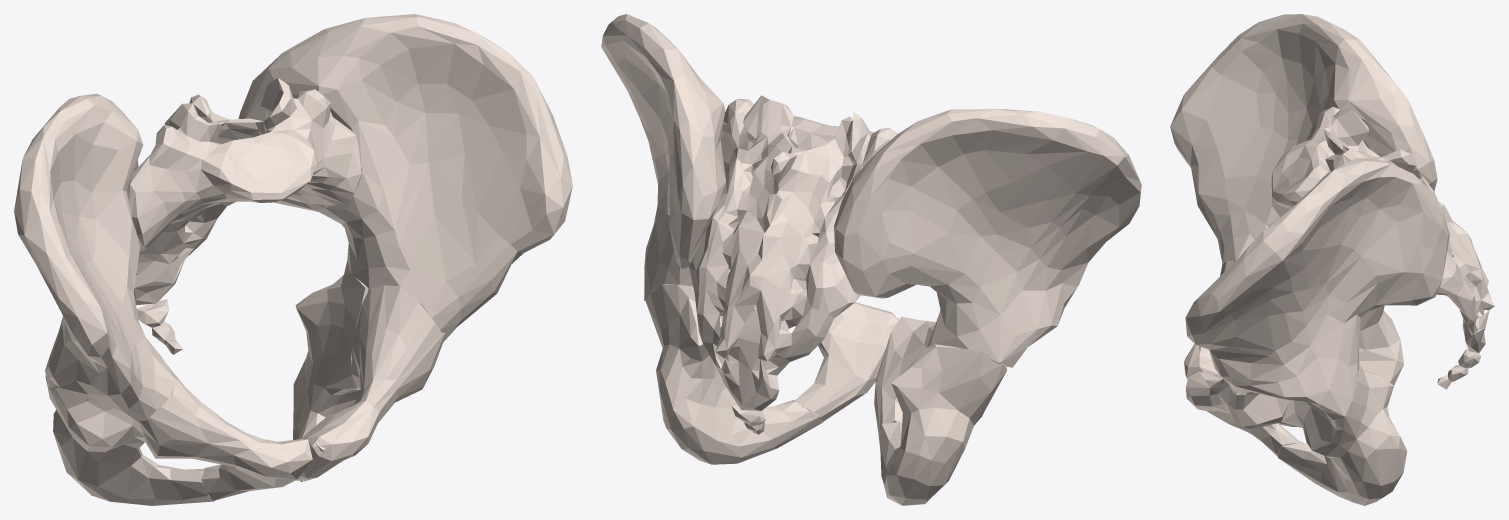
File: VH_M_Pelvis_0.1.glb
The picture shows the model from 3 angles, left to right: view 1: azimuth 30°, elevation 25°; view 2: azimuth 150°, elevation 25°; view 3: azimuth 270°, elevation 25°; orthographic projection. The views are drawn at different scales.
Parts seen in each view (by area): view 1: VH_M_ilium_compact_bone_L, VH_M_ilium_compact_bone_R, VH_M_sacrum, VH_M_pubis_compact_bone_L, VH_M_ischium_compact_bone_R, VH_M_pubis_compact_bone_R, VH_M_ischium_compact_bone_L, VH_M_coccyx; view 2: VH_M_ilium_compact_bone_R, VH_M_sacrum, VH_M_ilium_compact_bone_L, VH_M_ischium_compact_bone_L, VH_M_ischium_compact_bone_R, VH_M_pubis_compact_bone_L, VH_M_pubis_compact_bone_R; view 3: VH_M_ilium_compact_bone_L, VH_M_ilium_compact_bone_R, VH_M_ischium_compact_bone_L, VH_M_sacrum, VH_M_pubis_compact_bone_L, VH_M_ischium_compact_bone_R, VH_M_pubis_compact_bone_R, VH_M_coccyx.
Boxes of the visible parts, x1=… form: VH_M_ilium_compact_bone_L: x1=238, y1=14, x2=572, y2=341; VH_M_ilium_compact_bone_R: x1=14, y1=93, x2=177, y2=422; VH_M_sacrum: x1=127, y1=78, x2=361, y2=305; VH_M_pubis_compact_bone_L: x1=296, y1=285, x2=444, y2=481; VH_M_ischium_compact_bone_R: x1=45, y1=374, x2=214, y2=505; VH_M_pubis_compact_bone_R: x1=139, y1=365, x2=312, y2=500; VH_M_ischium_compact_bone_L: x1=293, y1=274, x2=369, y2=439; VH_M_coccyx: x1=137, y1=299, x2=182, y2=354; VH_M_ilium_compact_bone_R: x1=834, y1=109, x2=1141, y2=367; VH_M_sacrum: x1=689, y1=95, x2=898, y2=410; VH_M_ilium_compact_bone_L: x1=601, y1=14, x2=725, y2=300; VH_M_ischium_compact_bone_L: x1=645, y1=269, x2=823, y2=464; VH_M_ischium_compact_bone_R: x1=879, y1=344, x2=1006, y2=505; VH_M_pubis_compact_bone_L: x1=795, y1=302, x2=898, y2=421; VH_M_pubis_compact_bone_R: x1=874, y1=316, x2=935, y2=437; VH_M_ilium_compact_bone_L: x1=1185, y1=158, x2=1449, y2=420; VH_M_ilium_compact_bone_R: x1=1170, y1=14, x2=1437, y2=263; VH_M_ischium_compact_bone_L: x1=1278, y1=366, x2=1407, y2=505; VH_M_sacrum: x1=1271, y1=107, x2=1494, y2=352; VH_M_pubis_compact_bone_L: x1=1186, y1=371, x2=1298, y2=456; VH_M_ischium_compact_bone_R: x1=1288, y1=305, x2=1403, y2=427; VH_M_pubis_compact_bone_R: x1=1184, y1=261, x2=1290, y2=425; VH_M_coccyx: x1=1437, y1=349, x2=1480, y2=389.
Bounding box in the file's own units: 0.2839 × 0.2194 × 0.1742.
